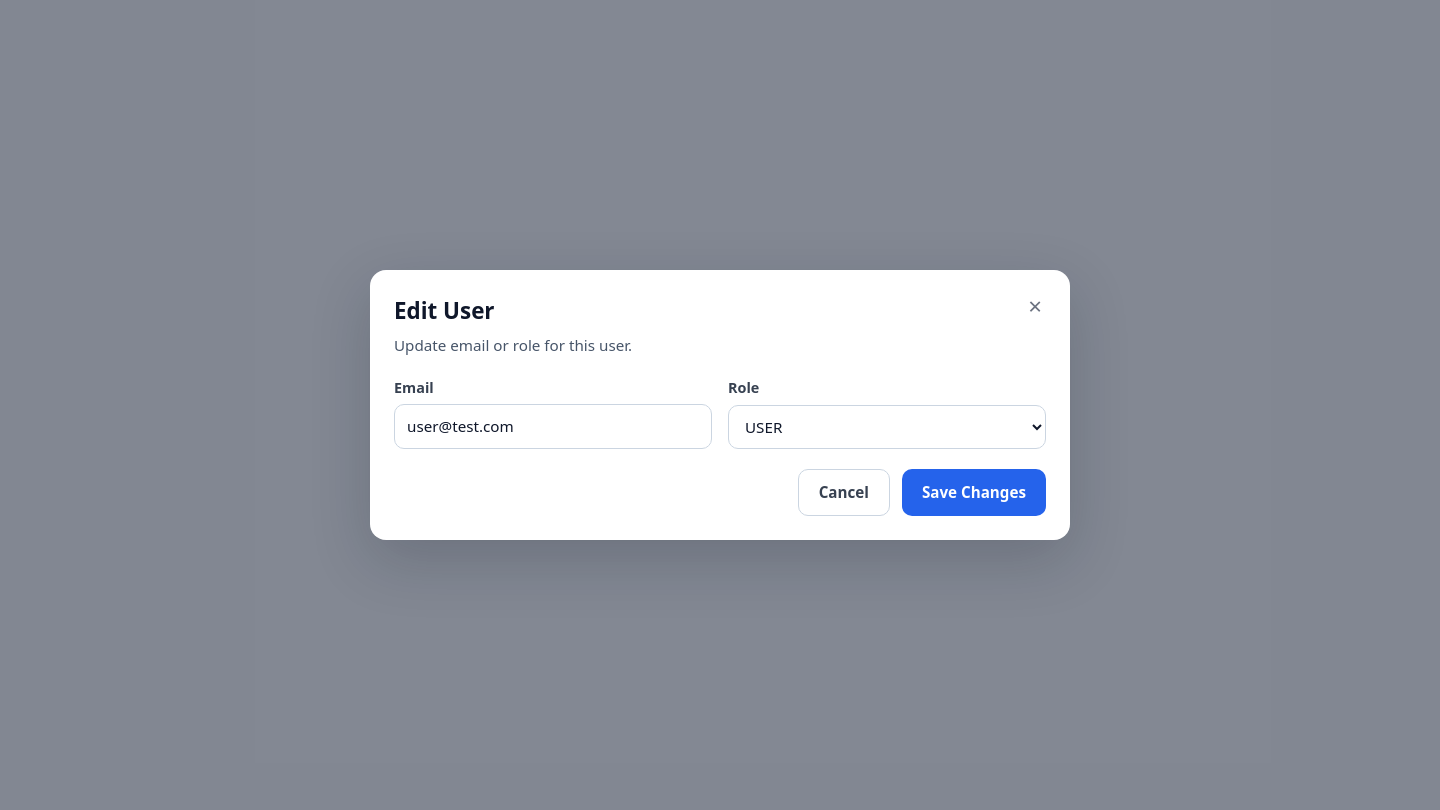
Test: EditUserForm › shows validation error when email is cleared
This screenshot has width=1440, height=810.
Clear the field labelled "Email". click: (553, 427)
box: [394, 404, 712, 449]
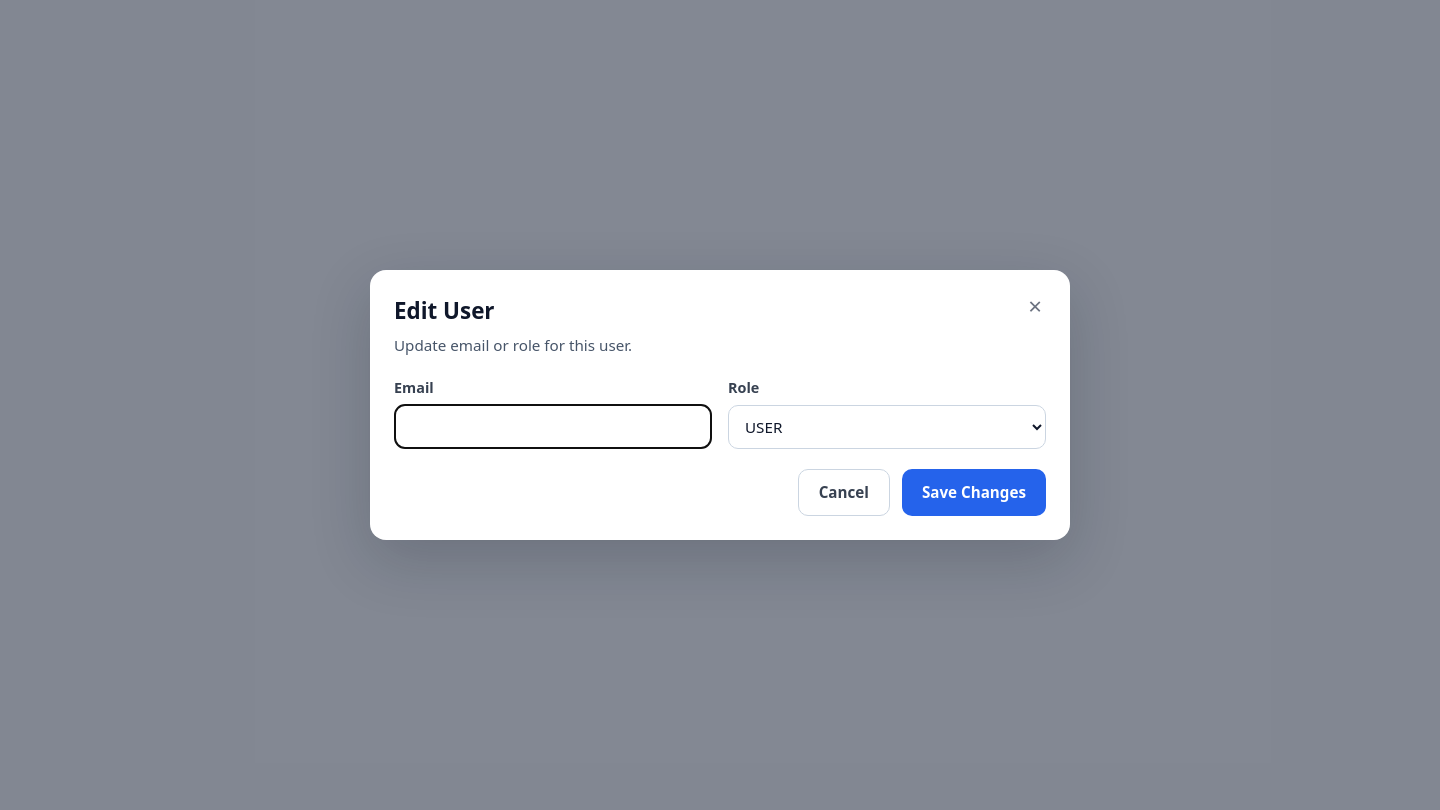
Click the button "Save Changes". click: (974, 492)
box: [902, 469, 1046, 516]
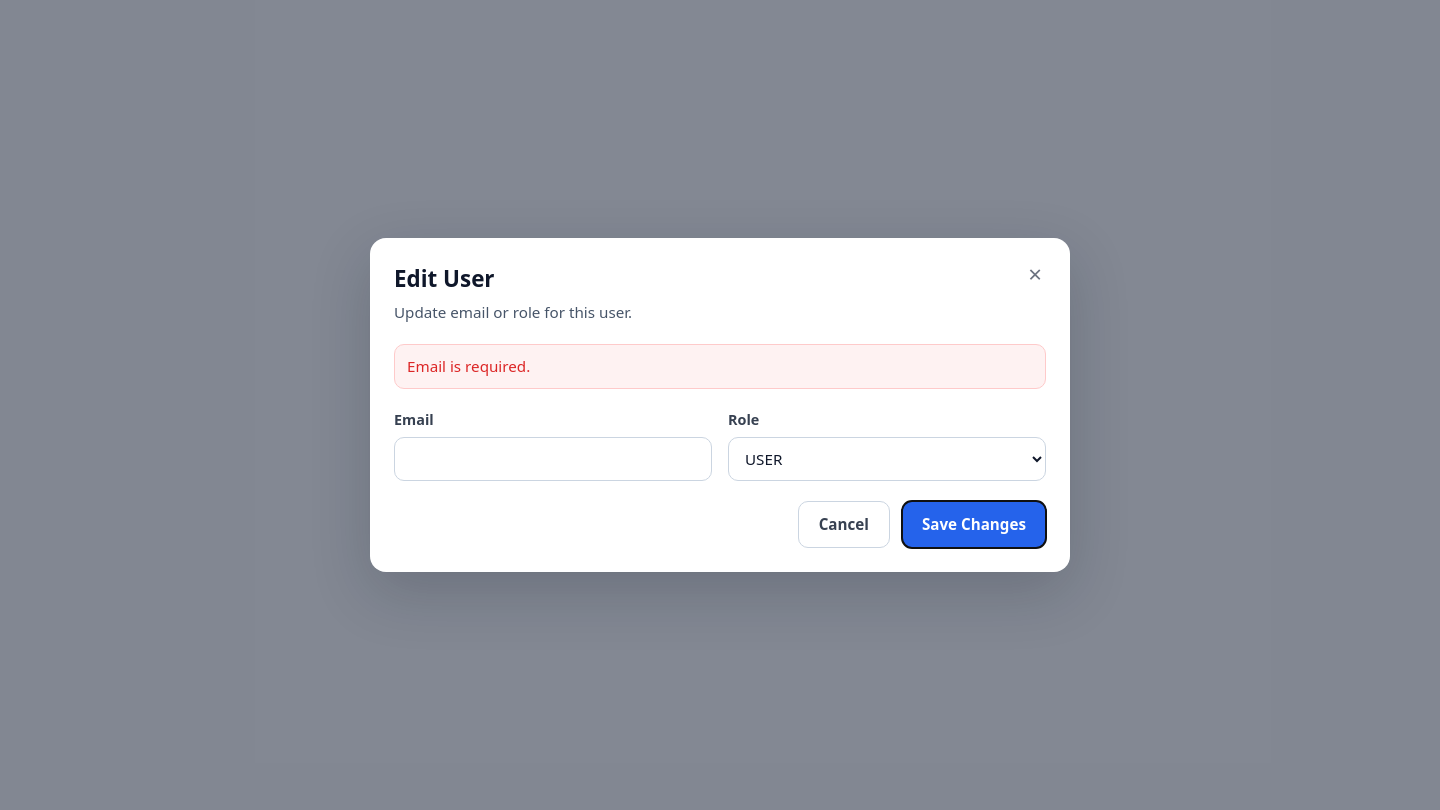
Check: the text "Email is required." is shown, box [394, 344, 1046, 389]
